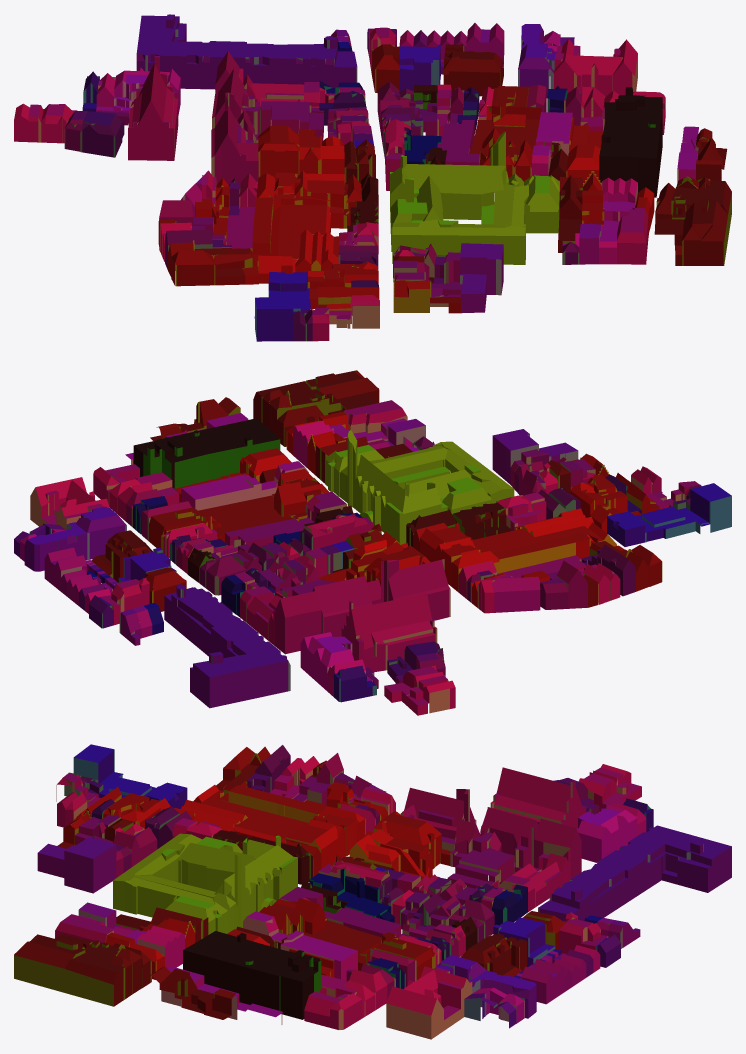
Rendered from buildings_8_9.glb.
The picture shows the model from 3 angles, top to bottom: view 1: azimuth 30°, elevation 25°; view 2: azimuth 150°, elevation 25°; view 3: azimuth 270°, elevation 25°; orthographic projection. The views are drawn at different scales.
Visible parts, largest first — view 1: buildings_8_9; view 2: buildings_8_9; view 3: buildings_8_9.
Part boxes in pixels (box(x1,y1,x2,y2)): buildings_8_9: box(14, 14, 731, 341); buildings_8_9: box(14, 370, 731, 715); buildings_8_9: box(14, 744, 731, 1039).
Bounding box in the file's own units: 222 × 29.03 × 253.
